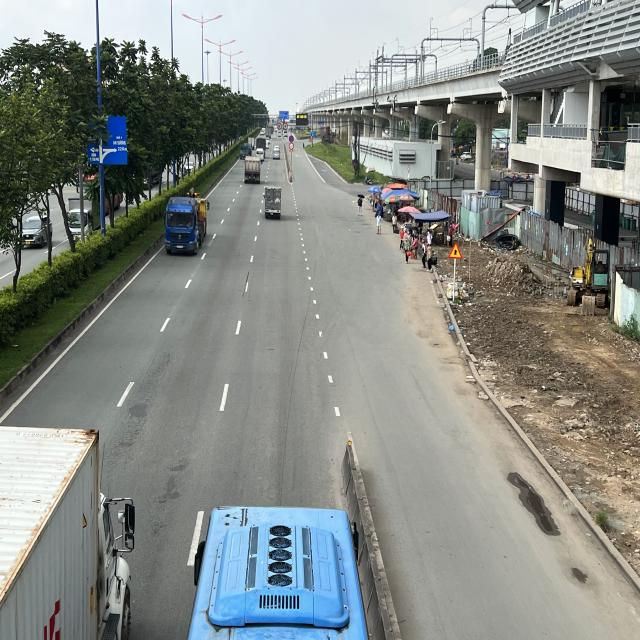car: (273, 149, 280, 160)
container: (164, 196, 198, 253), (244, 155, 261, 184)
truck: (264, 186, 282, 220)
